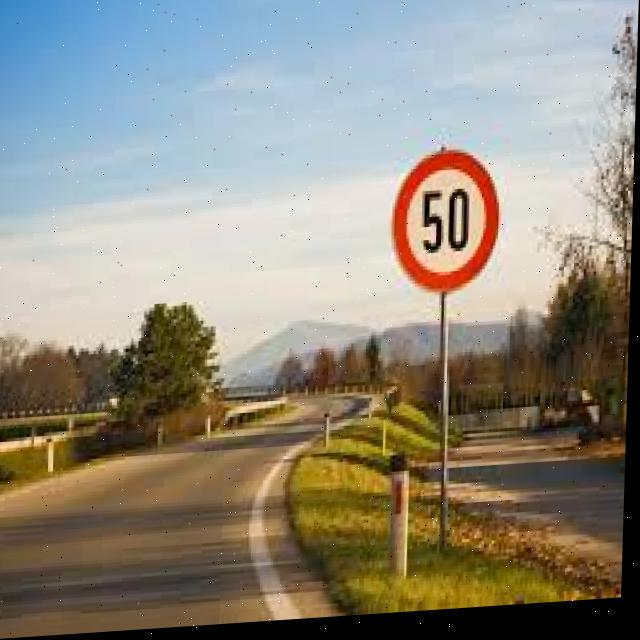Speed limit 50: (388, 148, 505, 305)
